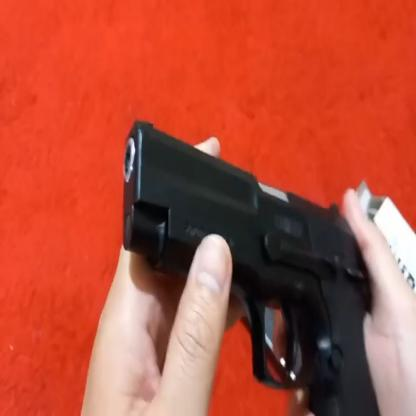handgun: (120, 110, 380, 412)
